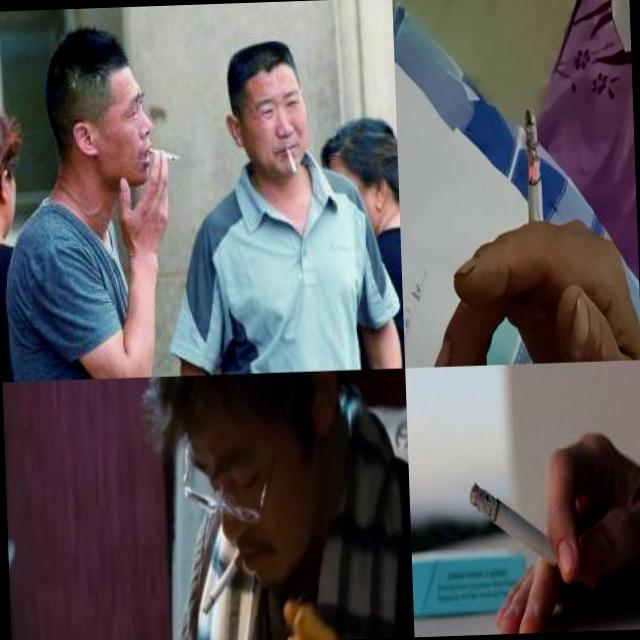cigarette: (468, 477, 596, 596), (196, 546, 248, 618), (524, 107, 544, 245), (145, 146, 179, 162), (284, 144, 298, 176)
